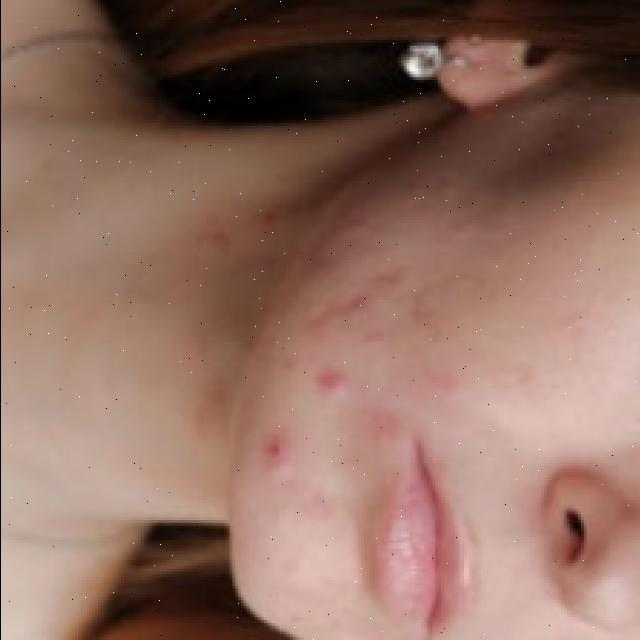Acne: (261, 268, 461, 518)
